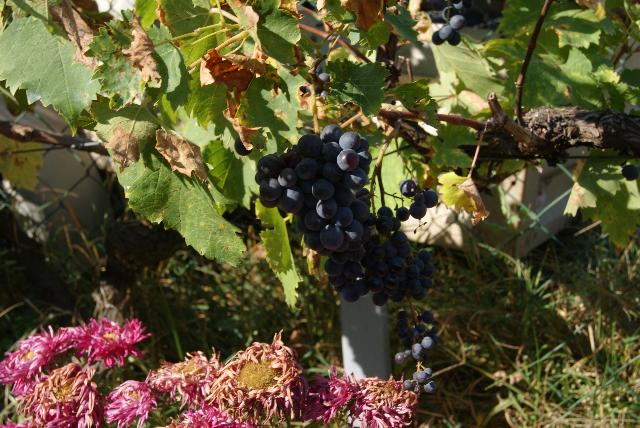grapes: (258, 125, 371, 286), (360, 206, 439, 395)
